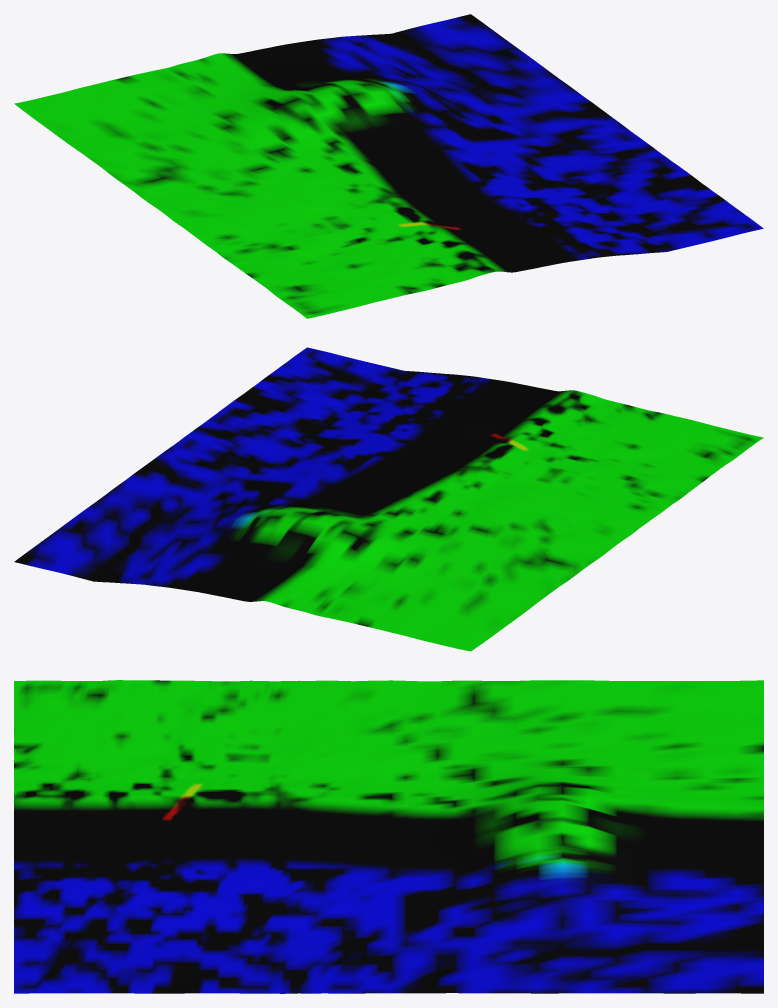
The model's file is arena_tideline_ground.glb.
The picture shows the model from 3 angles, top to bottom: view 1: azimuth 30°, elevation 25°; view 2: azimuth 150°, elevation 25°; view 3: azimuth 270°, elevation 25°; orthographic projection. The views are drawn at different scales.
Parts seen in each view (by area): view 1: arena_tideline_ground; view 2: arena_tideline_ground; view 3: arena_tideline_ground.
Boxes of the visible parts, box(x1,y1,x2,y2) form: arena_tideline_ground: box(14, 14, 763, 318); arena_tideline_ground: box(14, 347, 763, 651); arena_tideline_ground: box(14, 680, 763, 993).
Size of what is drawn, in the model's own units: 180 by 13.62 by 200.
